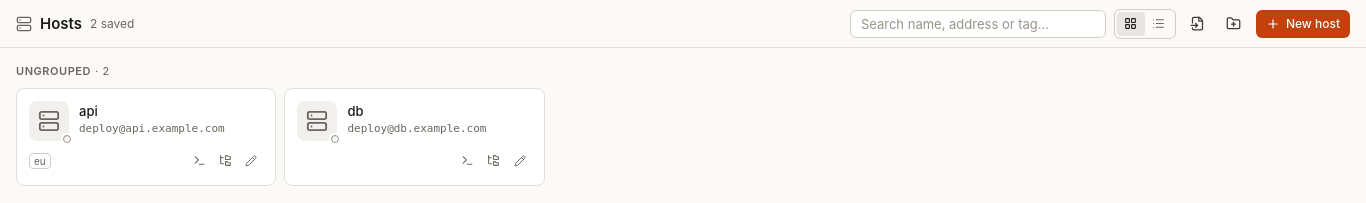
Test: Managing hosts and groups › filters hosts as you type and explains when nothing matches
This screenshot has width=1366, height=203.
In the search field named "Search hosts": (978, 24) [850, 10, 1106, 38], type "eu"
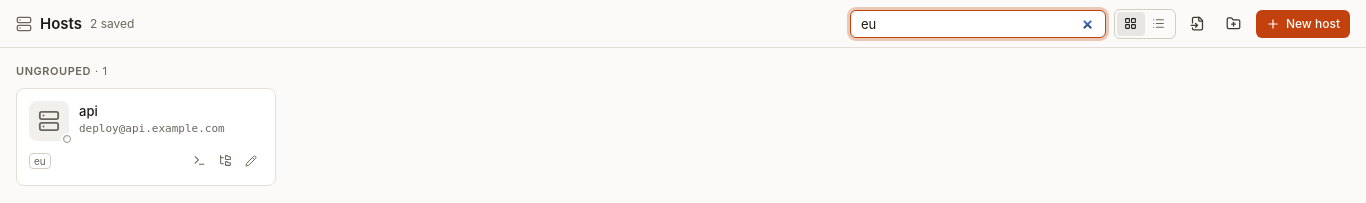
expect the button named "Connect to api" is shown: met, box [187, 149, 211, 173]
expect the button "Connect to db" is gone: met
Replace the text in the search field named "Search hosts" with "nothing": (978, 24) [850, 10, 1106, 38]
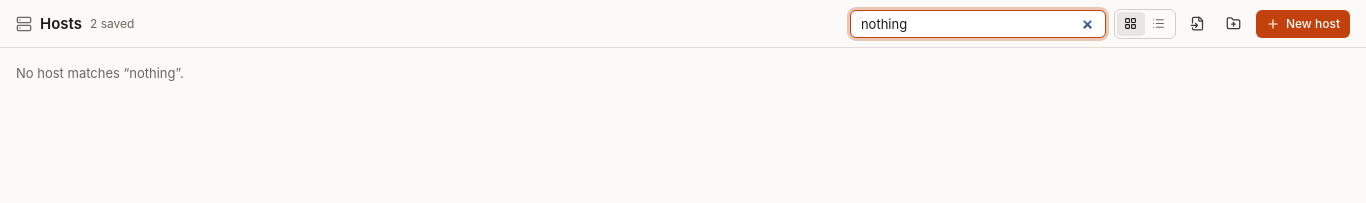
expect the text "No host matches “nothing”." is shown: met, box [16, 65, 184, 81]
